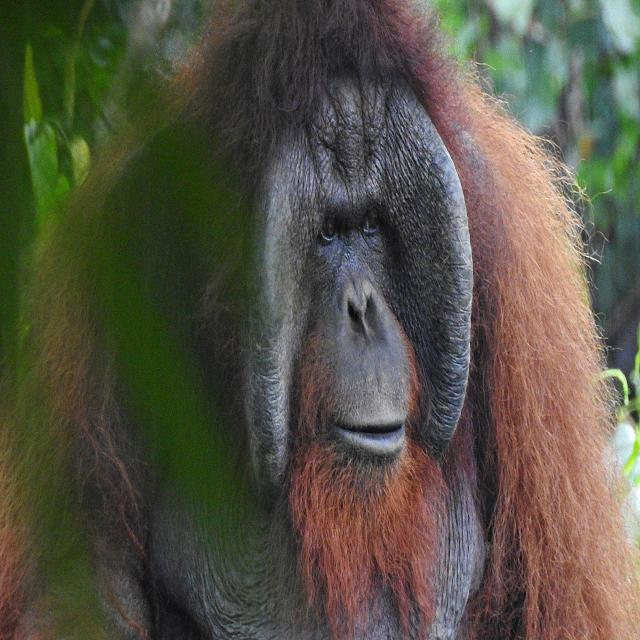Chimpanzee: (187, 63, 515, 621)
